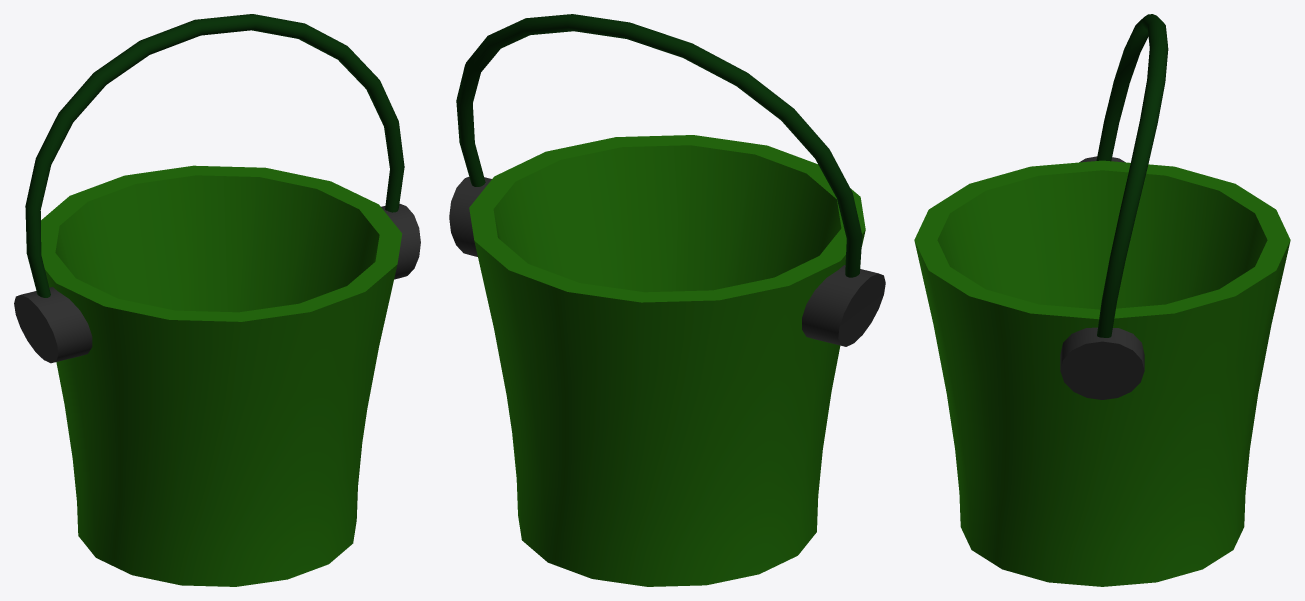
File: 3D_Beach_Bucket.FBX
3 renders of one model, left to right at view 1: azimuth 30°, elevation 25°; view 2: azimuth 150°, elevation 25°; view 3: azimuth 270°, elevation 25°, orthographic. The views are drawn at different scales.
Parts seen in each view (by area): view 1: 3D_Beach_Bucket; view 2: 3D_Beach_Bucket; view 3: 3D_Beach_Bucket.
Boxes of the visible parts, <box> form: 3D_Beach_Bucket: <box>14,14,420,586</box>; 3D_Beach_Bucket: <box>449,14,885,586</box>; 3D_Beach_Bucket: <box>914,14,1290,586</box>.
Size of the model in its own units: 82 by 100 by 69.96.
